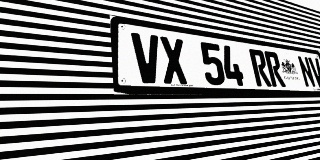4: (220, 45, 245, 86)
5: (200, 42, 227, 85)
N: (297, 55, 317, 88)
R: (248, 49, 272, 87), (264, 51, 286, 87)
V: (131, 32, 163, 84), (308, 57, 320, 88)
X: (159, 36, 189, 84)
